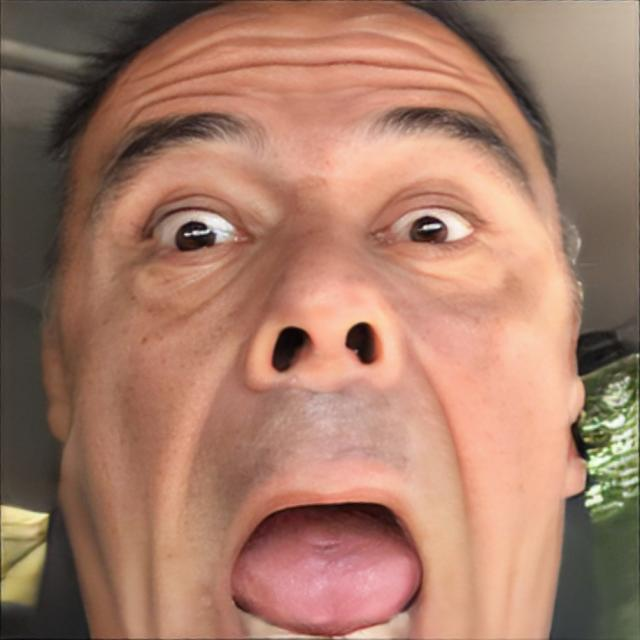fear: (39, 0, 575, 640)
